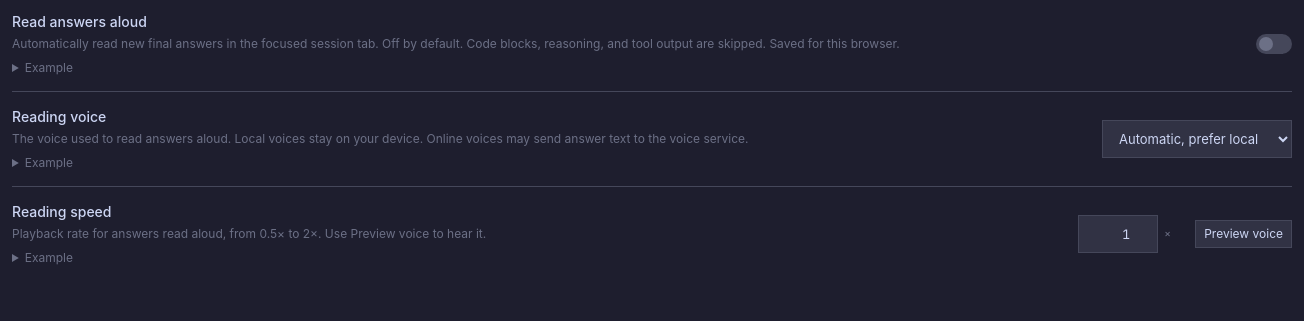
it: loads delayed voices, persists preferences and previews the selected voice
Click the checkbox named "Automatically read answers aloud" at (1274, 44), box [1256, 34, 1292, 54]
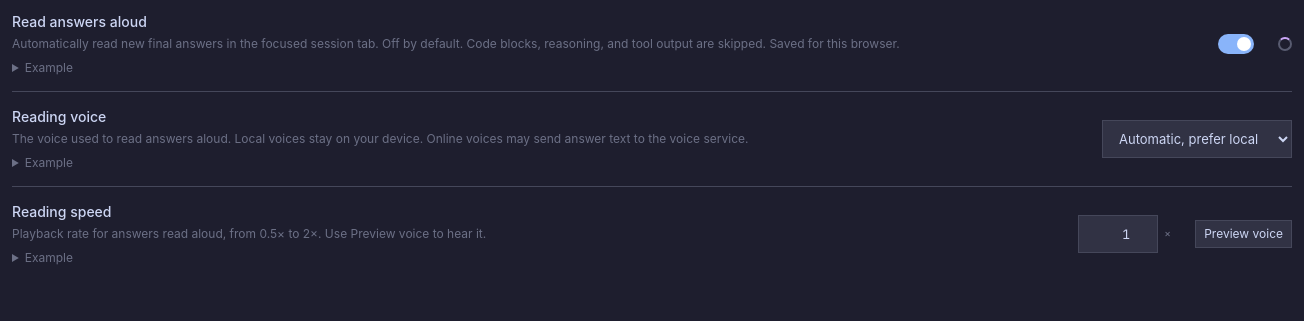
Select "Voice (en-US, local)" in the dropdown at (1197, 139), box [1102, 120, 1292, 158]
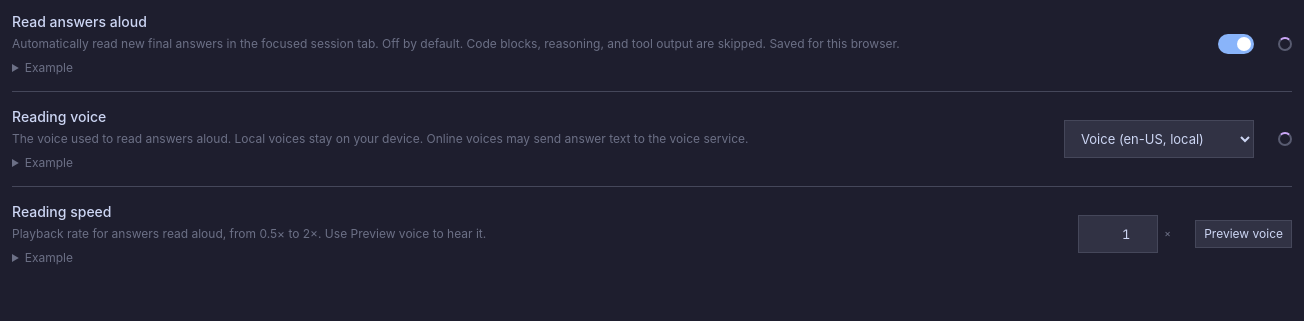
Replace the text in the number field with "1.5" at (1118, 234), box [1078, 215, 1158, 253]
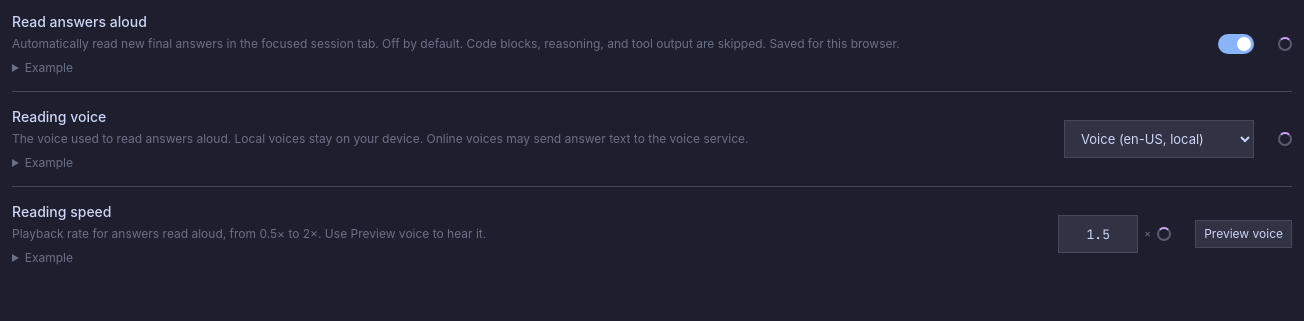
Click the button "Preview voice" at (1244, 234), box [1195, 220, 1292, 248]
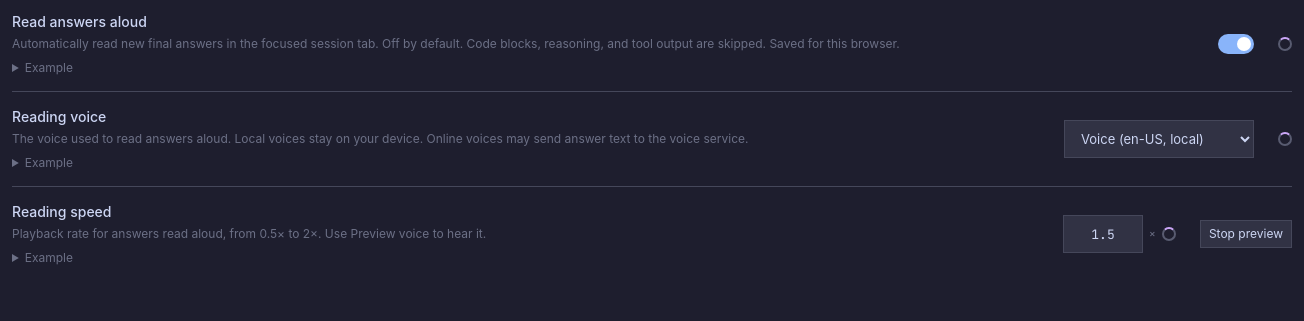
Click the button "Stop preview" at (1246, 234), box [1200, 220, 1292, 248]
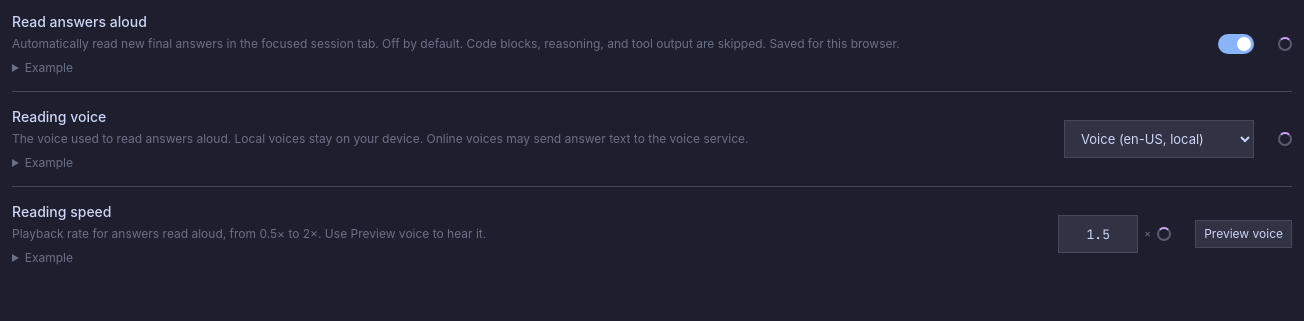
Click the button "Preview voice" at (1244, 234), box [1195, 220, 1292, 248]
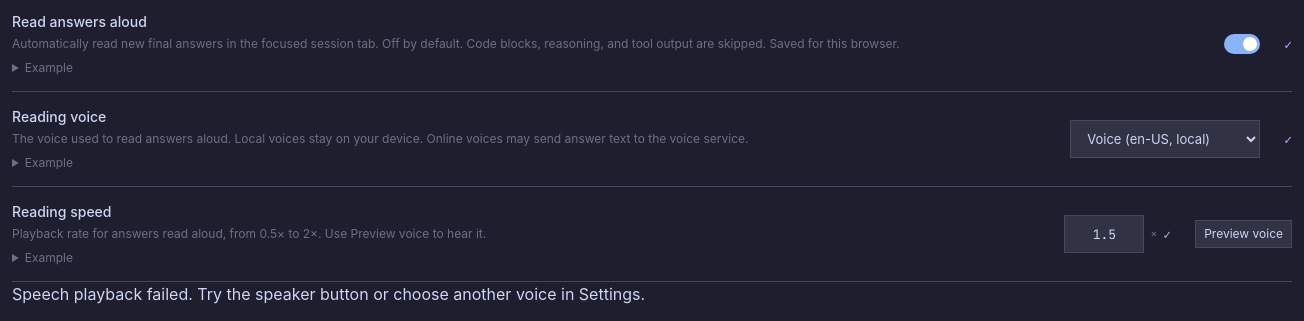
Expected: the text "Speech playback failed" is shown, [12, 284, 645, 304]
